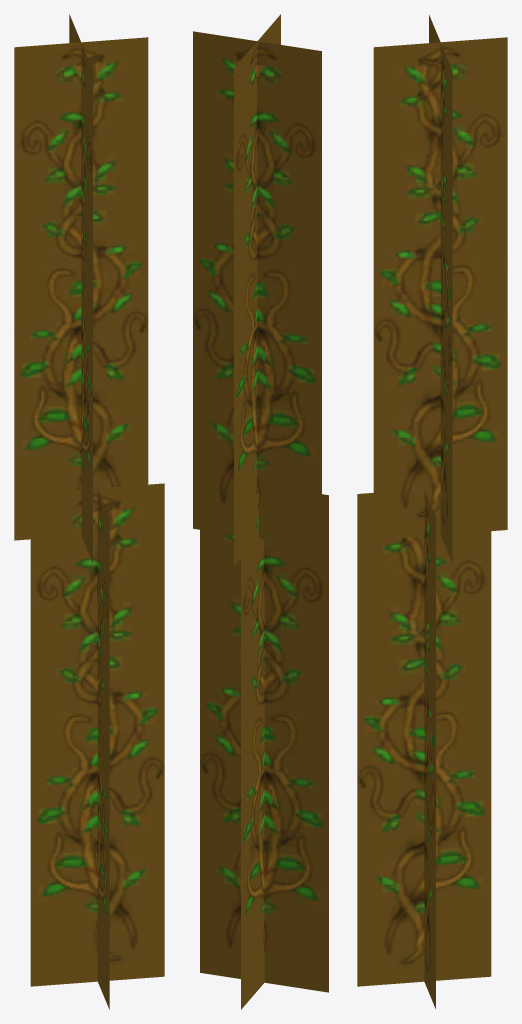
The model's file is INST_EKH_TWISTVINELG_01.fbx.
3 renders of one model, left to right at view 1: azimuth 90°, elevation 25°; view 2: azimuth 150°, elevation 25°; view 3: azimuth 270°, elevation 25°, orthographic.
Parts seen in each view (by area): view 1: INST_EKH_TWISTVINELG_01; view 2: INST_EKH_TWISTVINELG_01; view 3: INST_EKH_TWISTVINELG_01.
Part boxes in pixels (<box>): INST_EKH_TWISTVINELG_01: <box>14,14,164,1009</box>; INST_EKH_TWISTVINELG_01: <box>193,14,328,1009</box>; INST_EKH_TWISTVINELG_01: <box>357,15,507,1008</box>.
Size of the model in its own units: 6742 by 51631 by 7489.
1 material, 1 textured.
